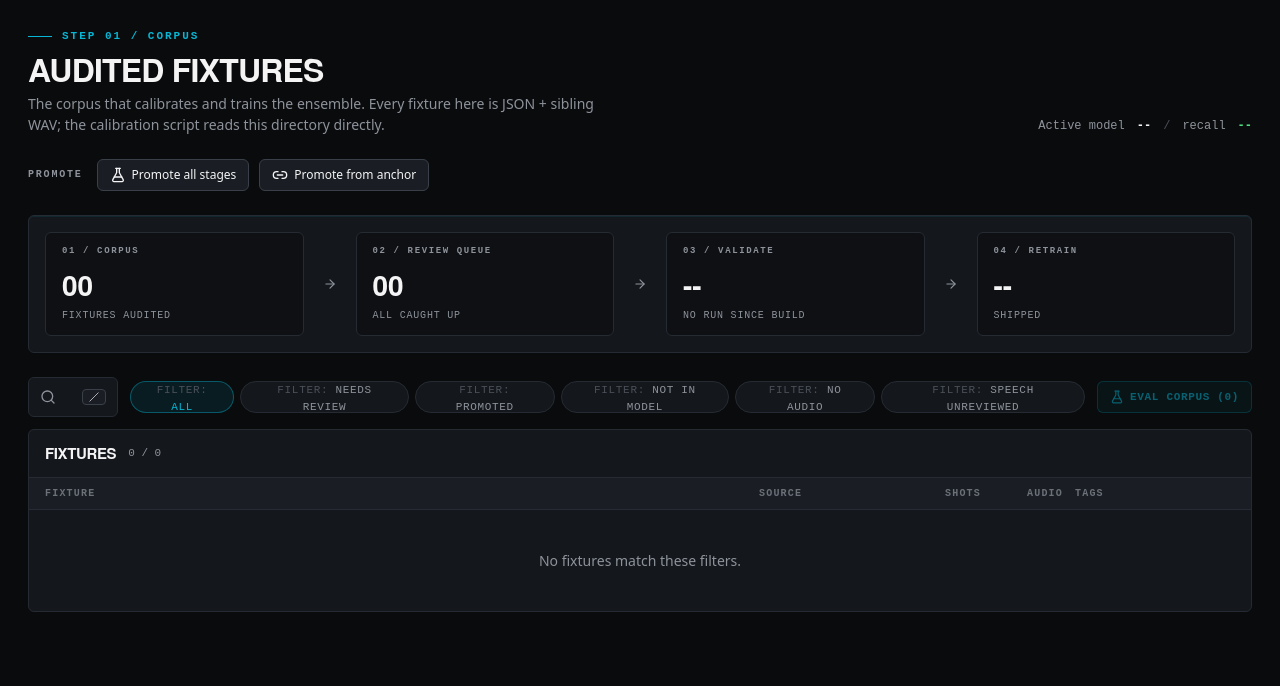
Test: DevCorpus batch-promote match selector › defaults to the most recent match and loads it via the match-scoped API
What coordinates should you click on to do the following:
click the button "Promote all stages"
I would click on:
 (173, 174)
Its box is 97,158 -> 249,190.
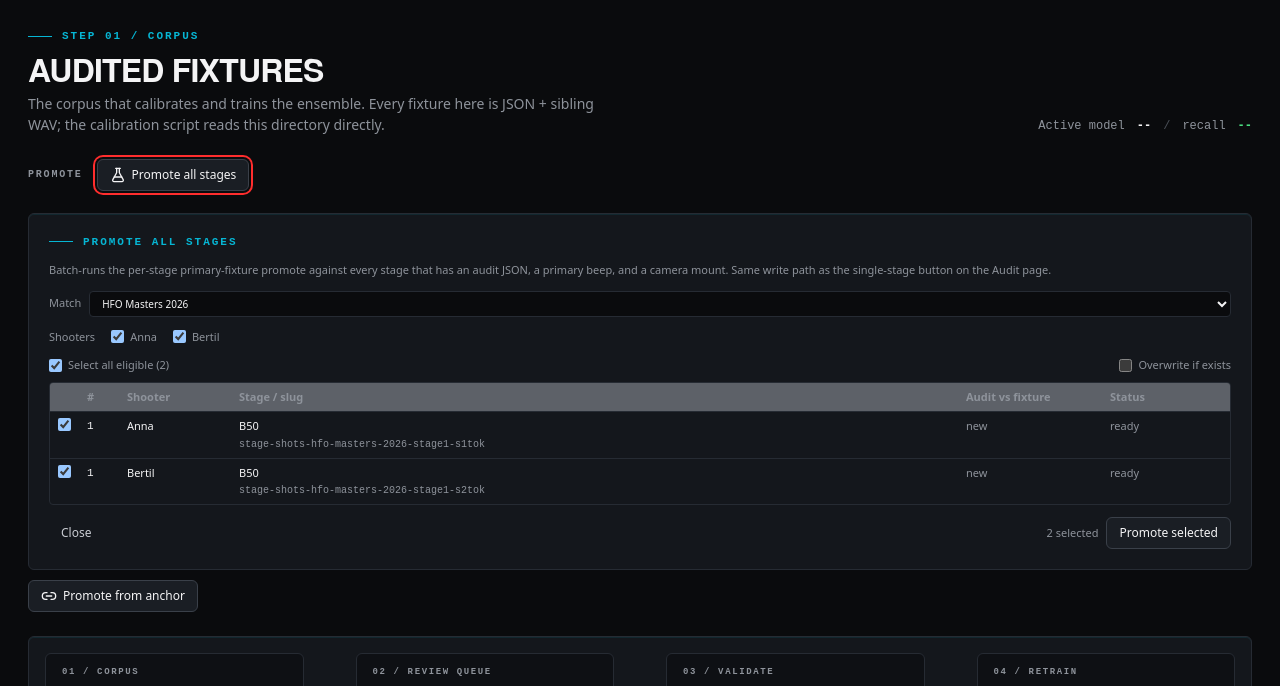
Expected: the dropdown labelled "Match" is shown, 89,290 -> 1231,316
